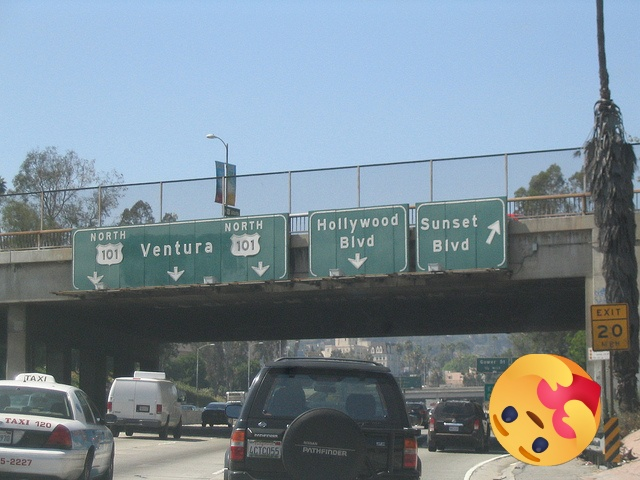care: (489, 354, 601, 466)
